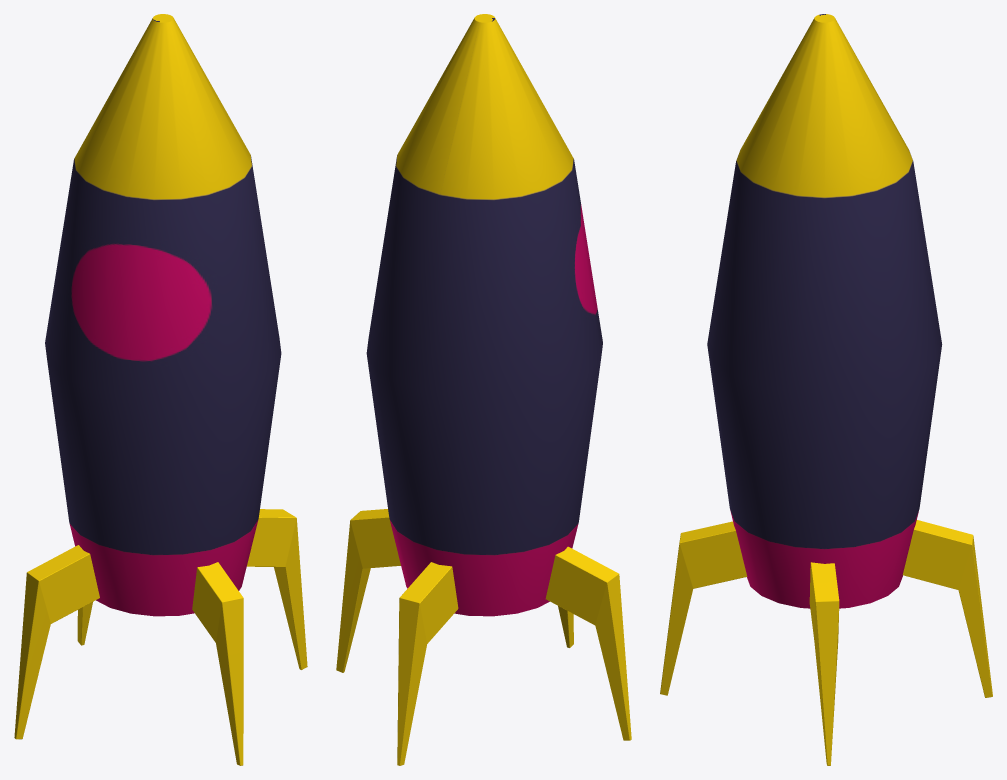
The model's file is Spaceship.fbx.
3 views of the same model, side by side, from view 1: azimuth 30°, elevation 25°; view 2: azimuth 150°, elevation 25°; view 3: azimuth 270°, elevation 25° (orthographic).
Visible parts, largest first — view 1: Spaceship_Body, SpaceshipLeg1, SpaceshipLeg2, SpaceshipLeg3; view 2: Spaceship_Body, SpaceshipLeg1, Spaceship4, SpaceshipLeg3; view 3: Spaceship_Body, Spaceship4, SpaceshipLeg2, SpaceshipLeg3.
Part boxes in pixels (box(x1,y1,x2,y2)): Spaceship_Body: box(45, 14, 281, 616); SpaceshipLeg1: box(14, 545, 99, 739); SpaceshipLeg2: box(192, 562, 243, 765); SpaceshipLeg3: box(247, 509, 307, 669); Spaceship_Body: box(366, 14, 602, 616); SpaceshipLeg1: box(545, 546, 631, 740); Spaceship4: box(397, 562, 458, 765); SpaceshipLeg3: box(336, 509, 400, 672); Spaceship_Body: box(707, 14, 942, 608); Spaceship4: box(902, 520, 992, 697); SpaceshipLeg2: box(660, 521, 747, 695); SpaceshipLeg3: box(809, 562, 839, 765).
Bounding box in the file's own units: 52.49 × 118 × 52.27.
